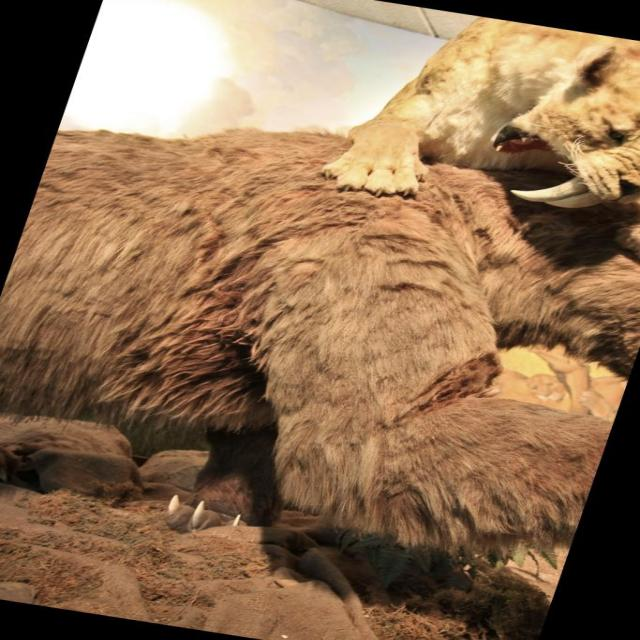Lion: (318, 2, 639, 240)
